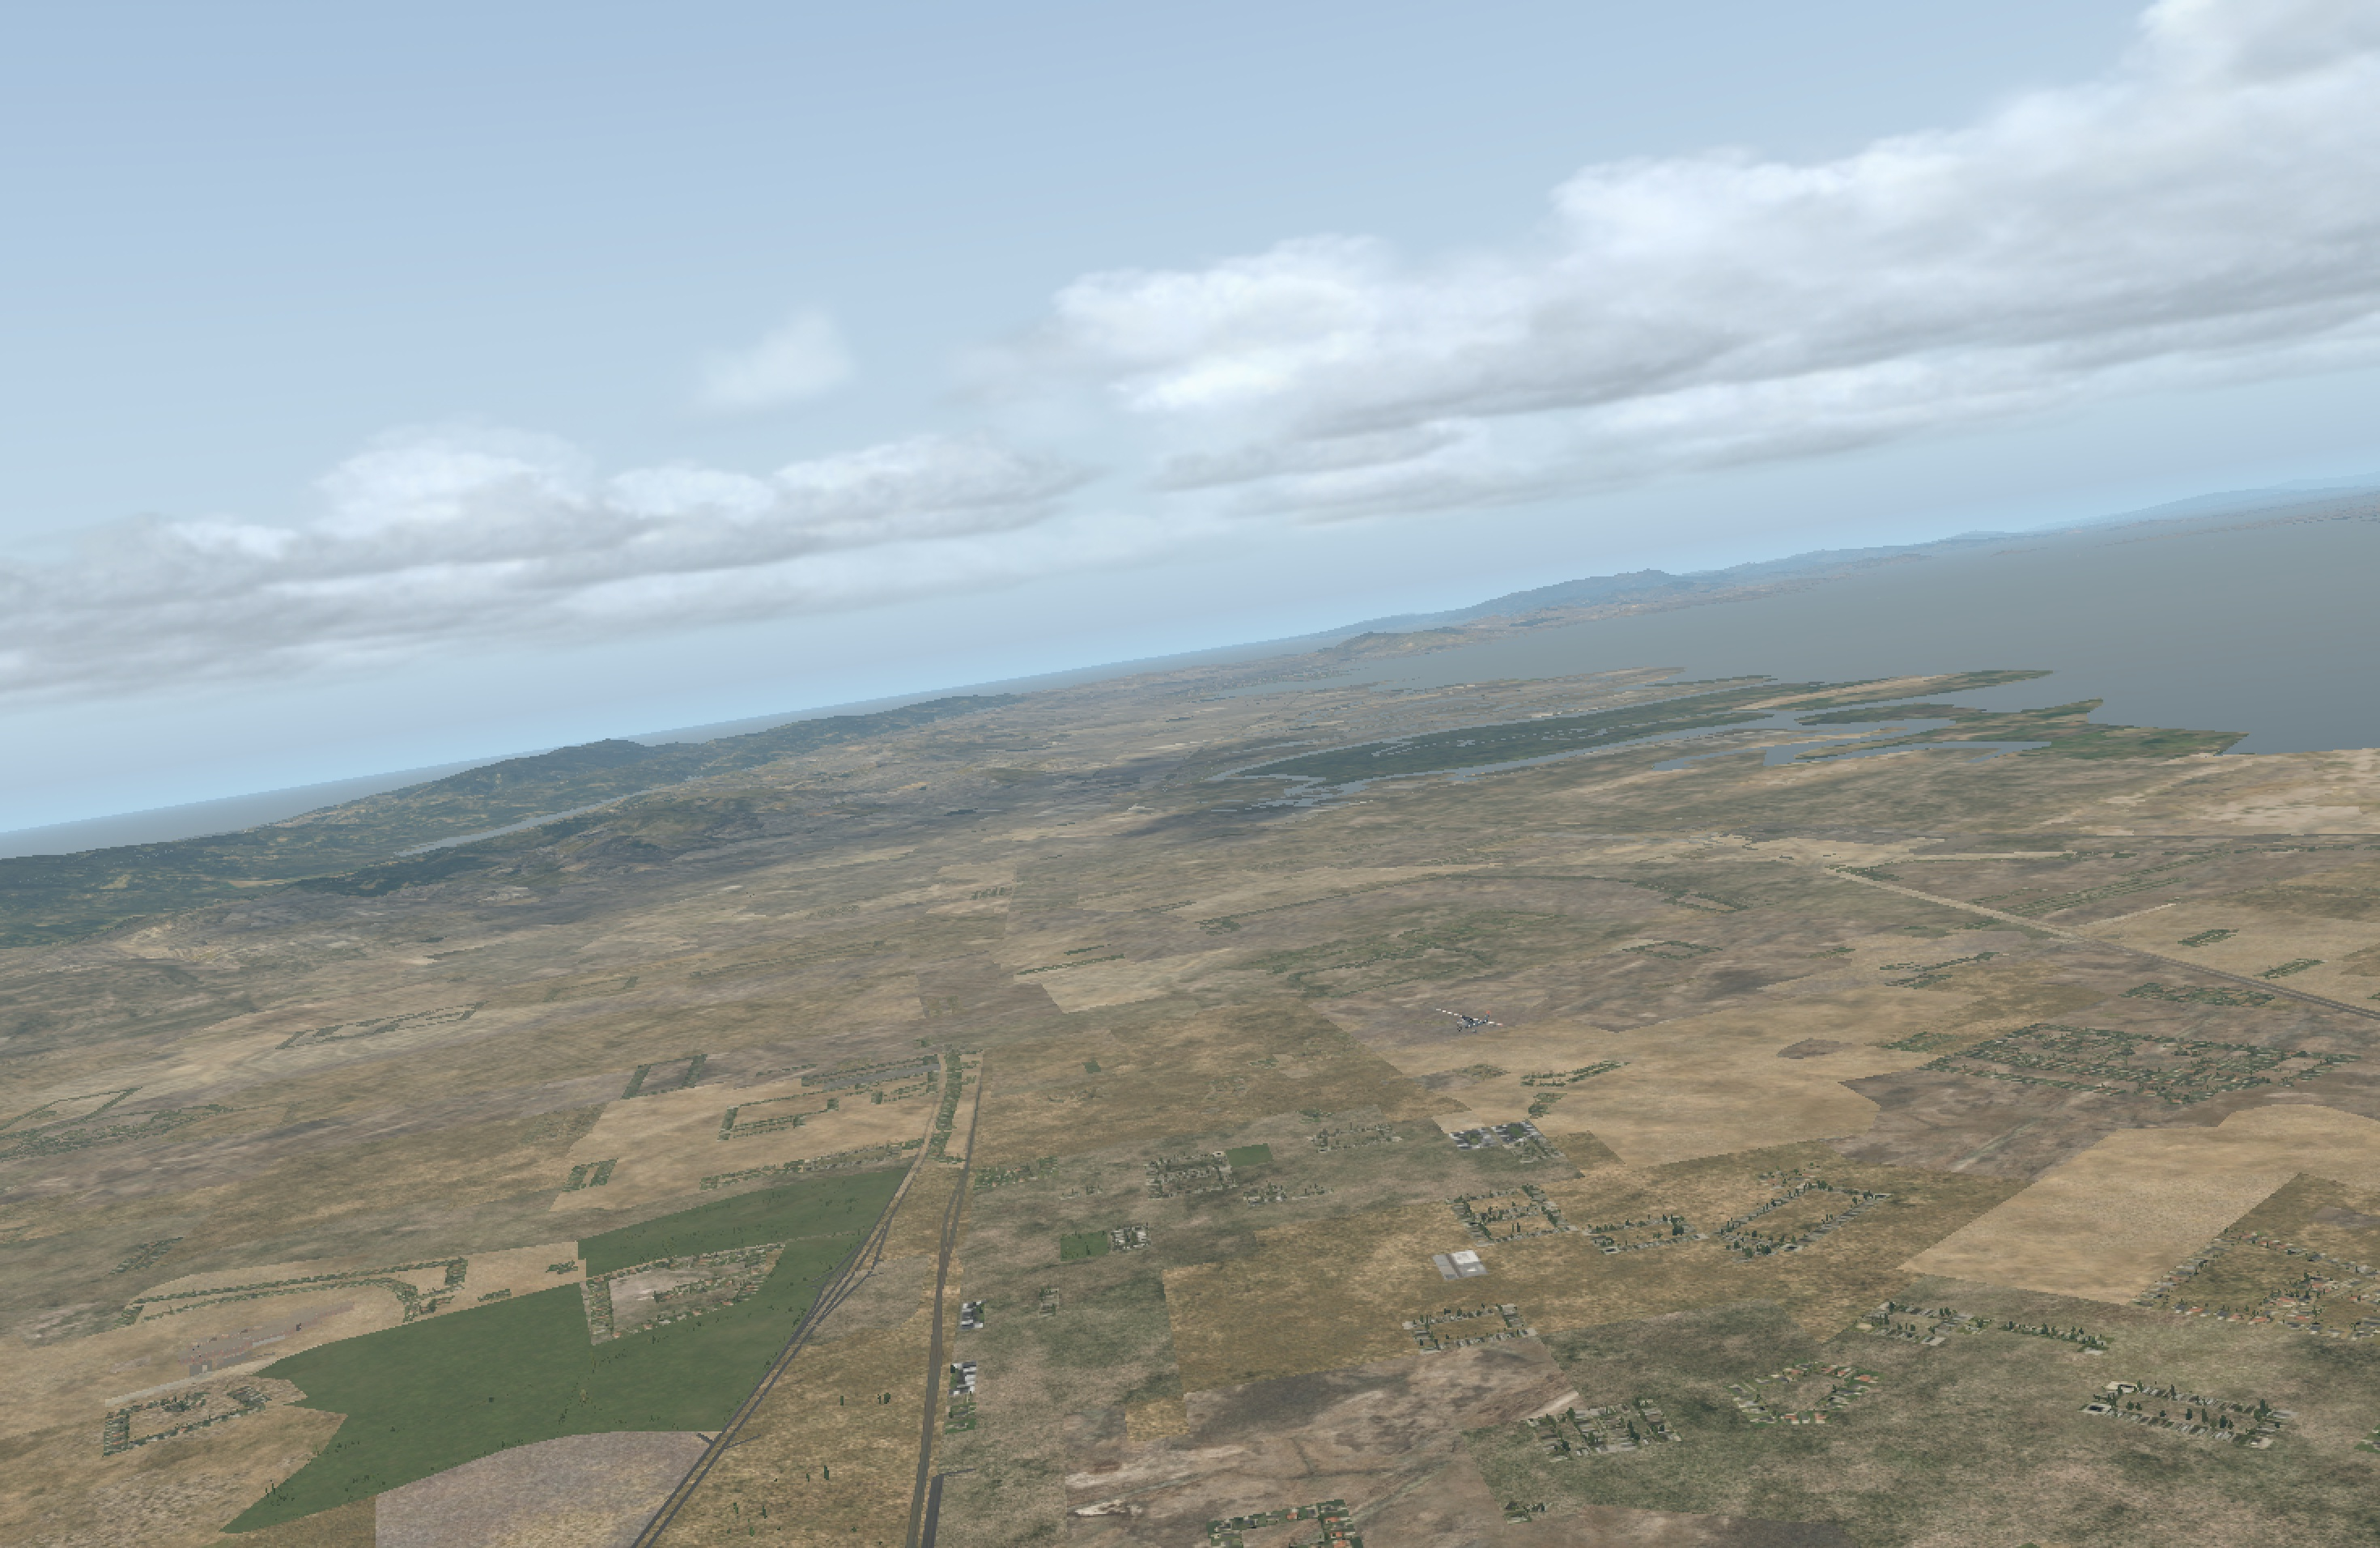aircraft: (1438, 1012, 1495, 1033)
